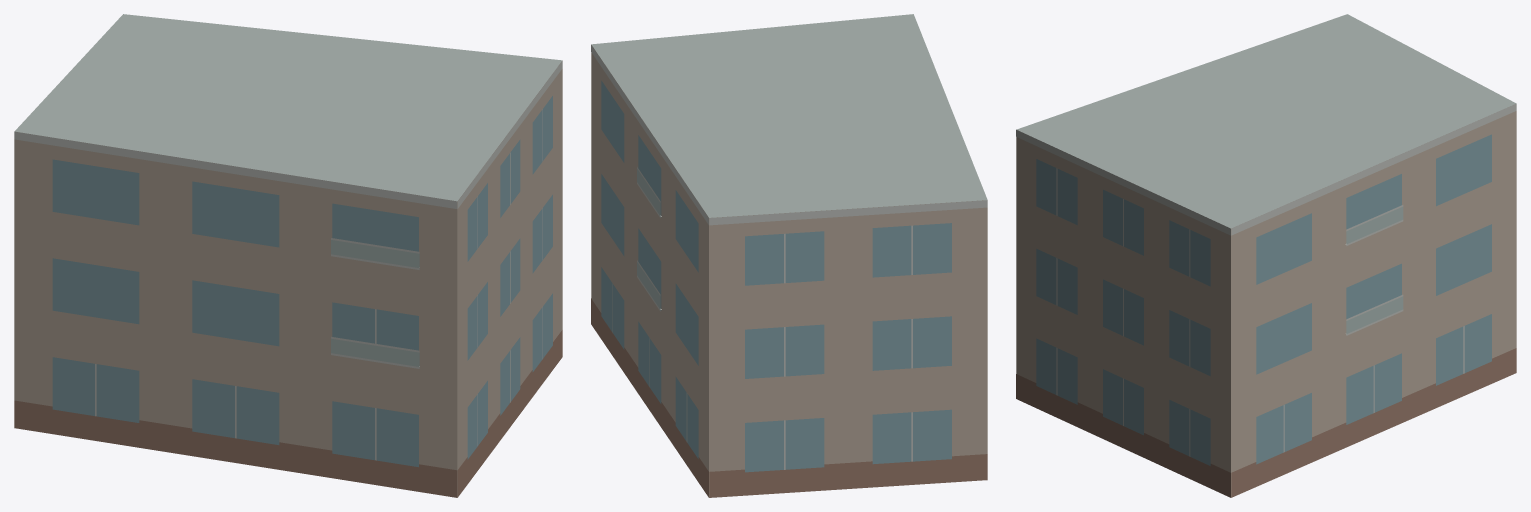
File: survey-upis-32722016.glb
The picture shows the model from 3 angles, left to right: view 1: azimuth 30°, elevation 25°; view 2: azimuth 150°, elevation 25°; view 3: azimuth 270°, elevation 25°; orthographic projection. The views are drawn at different scales.
Visible parts, largest first — view 1: survey-upis-32722016.tmp; view 2: survey-upis-32722016.tmp; view 3: survey-upis-32722016.tmp.
Boxes of the visible parts, x1=… form: survey-upis-32722016.tmp: x1=14, y1=14, x2=562, y2=497; survey-upis-32722016.tmp: x1=591, y1=14, x2=987, y2=497; survey-upis-32722016.tmp: x1=1016, y1=14, x2=1516, y2=497.
Bounding box in the file's own units: 15.64 × 9.15 × 15.42.
